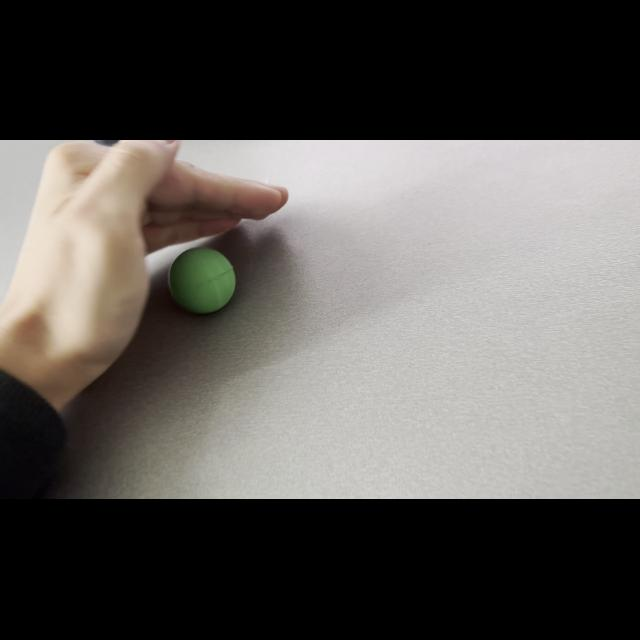objects: (164, 244, 243, 318)
